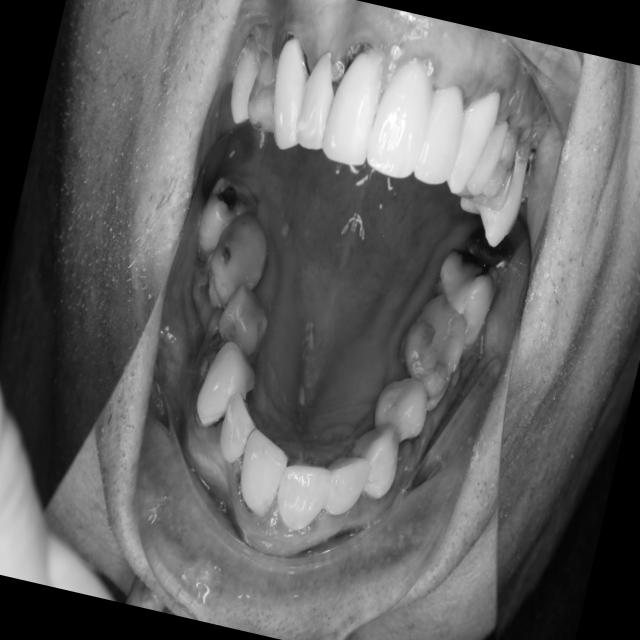tooth: (384, 276, 483, 415), (178, 326, 270, 446), (420, 236, 511, 357), (197, 202, 286, 325), (186, 160, 269, 275), (221, 411, 298, 530), (204, 267, 286, 370), (265, 445, 339, 548), (363, 363, 441, 460), (339, 417, 410, 509), (311, 436, 378, 530), (209, 382, 267, 474), (459, 223, 519, 273)
